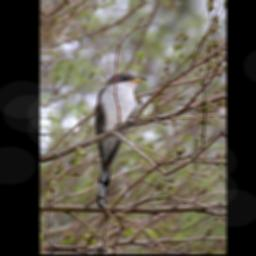Cuckoo: (91, 70, 148, 208)
